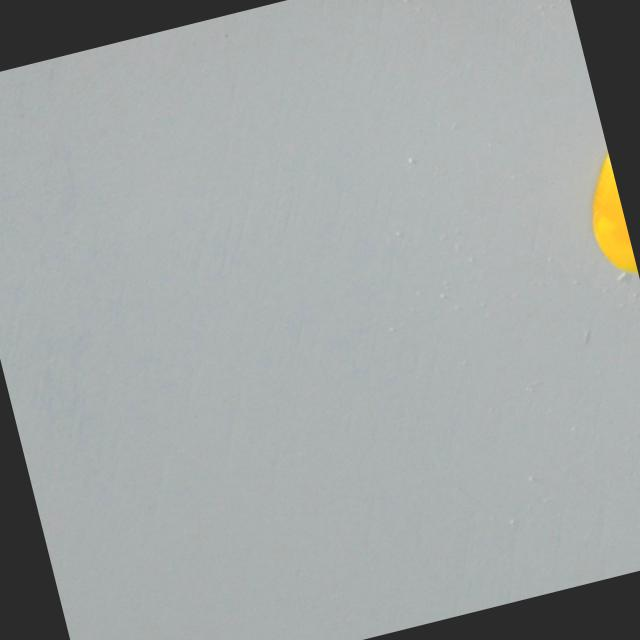no_canjicado: (574, 147, 640, 290)
